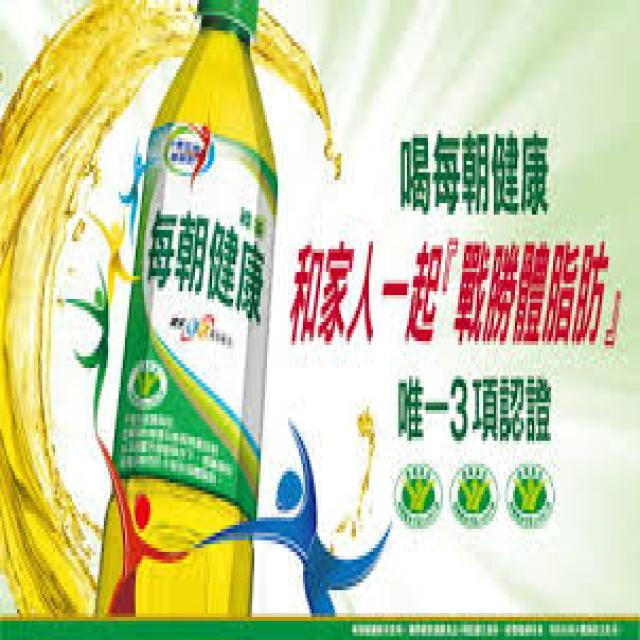MeiChou_GreenTea: (89, 0, 298, 621)
